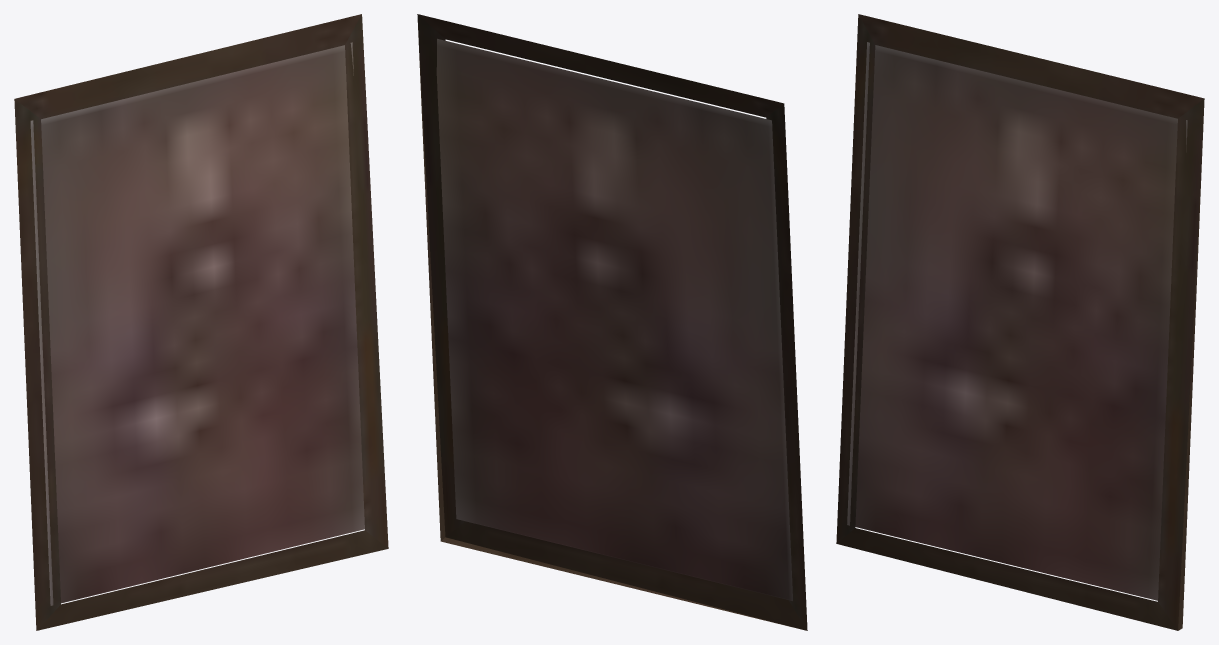
File: portrait-small-3.lod1.glb
3 views of the same model, side by side, from view 1: azimuth 30°, elevation 25°; view 2: azimuth 150°, elevation 25°; view 3: azimuth 330°, elevation 25° (orthographic). The views are drawn at different scales.
Parts seen in each view (by area): view 1: portrait-small-3; view 2: portrait-small-3; view 3: portrait-small-3.
Part boxes in pixels (left/top/right/bottom): portrait-small-3: left=14, top=14, right=388, bottom=630; portrait-small-3: left=417, top=14, right=807, bottom=630; portrait-small-3: left=836, top=14, right=1204, bottom=630.
Size of the model in its own units: 0.0946 by 0.1342 by 0.0125.
Materials: 1 (1 with a texture image).
